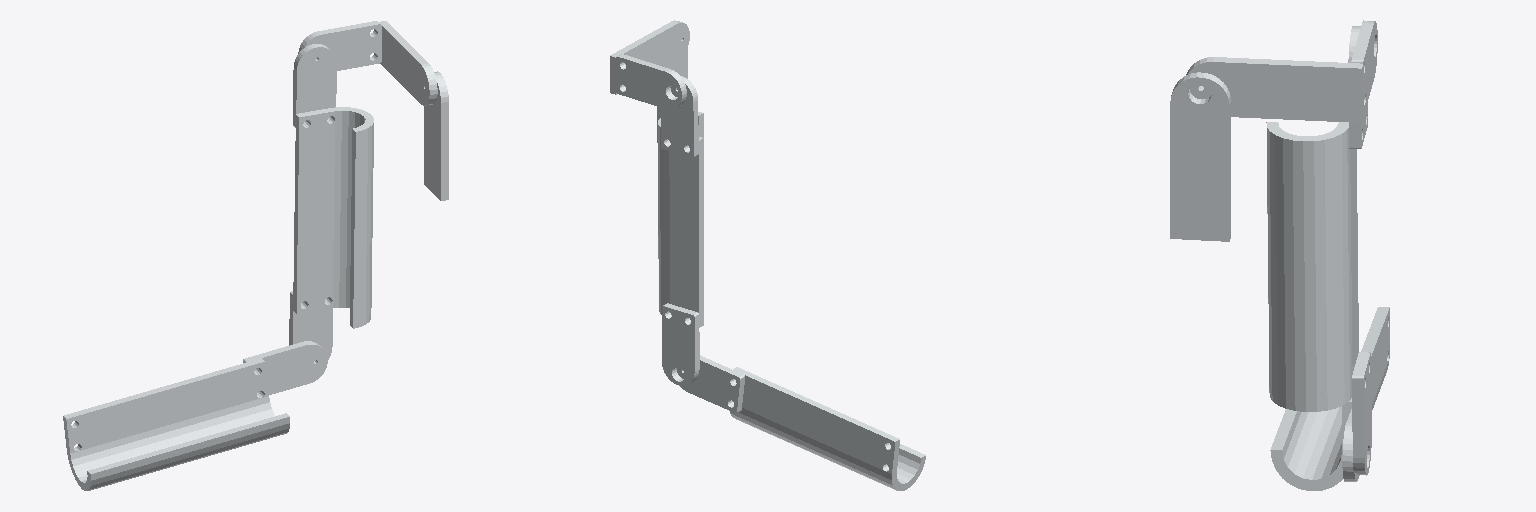
The robot description file, URDF, robot "genos_arm":
<?xml version="1.0" encoding="utf-8" ?>
<!-- This URDF was automatically created by SolidWorks to URDF Exporter! Originally created by [author] ([email redacted]) 
     Commit Version: 1.6.0-1-g15f4949  Build Version: 1.6.7594.29634
     For more information, please see http://wiki.ros.org/sw_urdf_exporter -->
<robot name="genos_arm">
    <link name="world" />
    <link name="base_link">
        
<inertial>
            <origin xyz="-0.0532016838101188 0.0242261098910182 1.14682652147493" rpy="0 0 0" />
            <mass value="0.186774887849971" />
            <inertia ixx="0.000346953127447042" ixy="-4.43999769224878E-06" ixz="5.03079981568357E-22" iyy="0.00031048934002632" iyz="-1.79439831910963E-20" izz="4.06423980219236E-05" />
        </inertial>

        <visual>
            <origin xyz="0 0 0" rpy="0 0 0" />
            <geometry>
                <mesh filename="package://genos_arm/meshes/base_link.STL" />
            </geometry>
            <material name="">
                <color rgba="0.898039215686275 0.917647058823529 0.929411764705882 1" />
            </material>
        </visual>
        <collision>
            <origin xyz="0 0 0" rpy="0 0 0" />
            <geometry>
                <mesh filename="package://genos_arm/meshes/base_link.STL" />
            </geometry>
        </collision>
    </link>
    <link name="link_1_S_aduc">
        
<inertial>
            <origin xyz="0.0627185461030959 0.00105824659029907 -0.0228092393950861" rpy="0 0 0" />
            <mass value="0.194782225878589" />
            <inertia ixx="4.10066260409285E-05" ixy="-5.09706962190601E-06" ixz="4.02340649945793E-20" iyy="0.000343005977675057" iyz="-1.38966342908909E-21" izz="0.000380766233284676" />
        </inertial>

        <visual>
            <origin xyz="0 0 0" rpy="0 0 0" />
            <geometry>
                <mesh filename="package://genos_arm/meshes/link_1_S_aduc.STL" />
            </geometry>
            <material name="">
                <color rgba="0.898039215686275 0.917647058823529 0.929411764705882 1" />
            </material>
        </visual>
        <collision>
            <origin xyz="0 0 0" rpy="0 0 0" />
            <geometry>
                <mesh filename="package://genos_arm/meshes/link_1_S_aduc.STL" />
            </geometry>
        </collision>
    </link>
    <joint name="world_joint" type="fixed">
        <parent link="world" />
        <child link="base_link" />
    </joint>
    <joint name="joint_adcu_1" type="continuous">
        <origin xyz="-0.0404837030222089 0.0226998141926109 1.21224322187183" rpy="1.5707963267949 0.0108613941738253 1.4513567037453" />
        <parent link="base_link" />
        <child link="link_1_S_aduc" />
        <axis xyz="0 0 1" />
    </joint>
    <link name="link_passive_1">
        
<inertial>
            <origin xyz="0.053884189687728 0.0271928860666164 0.00505224239552149" rpy="0 0 0" />
            <mass value="0.114987383770919" />
            <inertia ixx="2.4972951246468E-05" ixy="-7.22270949824152E-19" ixz="-6.09863722023096E-20" iyy="7.97534220207357E-05" iyz="-3.88920249552187E-07" izz="0.00010279679241092" />
        </inertial>

        <visual>
            <origin xyz="0 0 0" rpy="0 0 0" />
            <geometry>
                <mesh filename="package://genos_arm/meshes/link_passive_1.STL" />
            </geometry>
            <material name="">
                <color rgba="0.898039215686275 0.917647058823529 0.929411764705882 1" />
            </material>
        </visual>
        <collision>
            <origin xyz="0 0 0" rpy="0 0 0" />
            <geometry>
                <mesh filename="package://genos_arm/meshes/link_passive_1.STL" />
            </geometry>
        </collision>
    </link>
    <joint name="fixed_passive_1" type="fixed">
        <origin xyz="0.135 -0.0230000000000048 -0.127809239395095" rpy="-2.50253742856838 -1.57079630572147 2.50533291619349" />
        <parent link="link_1_S_aduc" />
        <child link="link_passive_1" />
        <axis xyz="0 0 0" />
    </joint>
    <link name="link_2_S_flex">
        
<inertial>
            <origin xyz="0.0343235035054608 -2.45997000279385E-05 0.00522934542868636" rpy="0 0 0" />
            <mass value="0.122994721799536" />
            <inertia ixx="2.5276587294501E-05" ixy="1.94036347754068E-10" ixz="1.50610770145653E-06" iyy="9.13435806787004E-05" iyz="4.74214522220896E-09" izz="0.000114519432792271" />
        </inertial>

        <visual>
            <origin xyz="0 0 0" rpy="0 0 0" />
            <geometry>
                <mesh filename="package://genos_arm/meshes/link_2_S_flex.STL" />
            </geometry>
            <material name="">
                <color rgba="0.898039215686275 0.917647058823529 0.929411764705882 1" />
            </material>
        </visual>
        <collision>
            <origin xyz="0 0 0" rpy="0 0 0" />
            <geometry>
                <mesh filename="package://genos_arm/meshes/link_2_S_flex.STL" />
            </geometry>
        </collision>
    </link>
    <joint name="joint_2_S_rev" type="continuous">
        <origin xyz="0.0149999999999997 0.025000000000001 0.00920822889014553" rpy="0 0 -1.58291856073267" />
        <parent link="link_passive_1" />
        <child link="link_2_S_flex" />
        <axis xyz="0 0 1" />
    </joint>
    <link name="link_2_S_passive">
        
<inertial>
            <origin xyz="0.0126740440892248 -0.00599117175268329 0.126536768709444" rpy="0 0 0" />
            <mass value="0.931440212187241" />
            <inertia ixx="0.00524234185541984" ixy="-0.000253144623704425" ixz="7.26134534202072E-05" iyy="0.0052612858432027" iyz="-4.26352332733893E-06" izz="0.000939681273900423" />
        </inertial>

        <visual>
            <origin xyz="0 0 0" rpy="0 0 0" />
            <geometry>
                <mesh filename="package://genos_arm/meshes/link_2_S_passive.STL" />
            </geometry>
            <material name="">
                <color rgba="0.898039215686275 0.917647058823529 0.929411764705882 1" />
            </material>
        </visual>
        <collision>
            <origin xyz="0 0 0" rpy="0 0 0" />
            <geometry>
                <mesh filename="package://genos_arm/meshes/link_2_S_passive.STL" />
            </geometry>
        </collision>
    </link>
    <joint name="joint_2_passive" type="fixed">
        <origin xyz="0.31500000000001 0.0200000000000026 0.0457917711098549" rpy="-0.0190271992194839 1.57079631189374 3.12445963243506" />
        <parent link="link_2_S_flex" />
        <child link="link_2_S_passive" />
        <axis xyz="0 0 0" />
    </joint>
    <link name="link_2_S_passive_2">
        
<inertial>
            <origin xyz="0.0559567612941825 0.024974874571406 0.0107035671967797" rpy="0 0 0" />
            <mass value="0.114987383770919" />
            <inertia ixx="2.49950997113638E-05" ixy="-1.74014837375412E-10" ixz="1.31275792470068E-06" iyy="7.97468607547848E-05" iyz="-4.71287284918296E-09" izz="0.000102781205211975" />
        </inertial>

        <visual>
            <origin xyz="0 0 0" rpy="0 0 0" />
            <geometry>
                <mesh filename="package://genos_arm/meshes/link_2_S_passive_2.STL" />
            </geometry>
            <material name="">
                <color rgba="0.898039215686275 0.917647058823529 0.929411764705882 1" />
            </material>
        </visual>
        <collision>
            <origin xyz="0 0 0" rpy="0 0 0" />
            <geometry>
                <mesh filename="package://genos_arm/meshes/link_2_S_passive_2.STL" />
            </geometry>
        </collision>
    </link>
    <joint name="joint_2_S_passive_2" type="fixed">
        <origin xyz="0.0349999999999934 0.0450000000000108 -0.08" rpy="-1.60124963937506 -1.57079630572147 -1.54034371338239" />
        <parent link="link_2_S_passive" />
        <child link="link_2_S_passive_2" />
        <axis xyz="0 0 0" />
    </joint>
    <link name="link_3_e_rev">
        
<inertial>
            <origin xyz="0.0361443917164831 -0.00189872275262637 -0.00142782478082573" rpy="0 0 0" />
            <mass value="0.122994721799536" />
            <inertia ixx="2.5251478983124E-05" ixy="1.73558005222769E-09" ixz="1.64284718566832E-07" iyy="9.13501045853309E-05" iyz="3.89025977200301E-07" izz="0.000114538017197019" />
        </inertial>

        <visual>
            <origin xyz="0 0 0" rpy="0 0 0" />
            <geometry>
                <mesh filename="package://genos_arm/meshes/link_3_e_rev.STL" />
            </geometry>
            <material name="">
                <color rgba="0.898039215686275 0.917647058823529 0.929411764705882 1" />
            </material>
        </visual>
        <collision>
            <origin xyz="0 0 0" rpy="0 0 0" />
            <geometry>
                <mesh filename="package://genos_arm/meshes/link_3_e_rev.STL" />
            </geometry>
        </collision>
    </link>
    <joint name="joint_3_rev" type="continuous">
        <origin xyz="0.015 0.025 0" rpy="-3.14159265358979 0 -1.69219555052437" />
        <parent link="link_2_S_passive_2" />
        <child link="link_3_e_rev" />
        <axis xyz="0 0 1" />
    </joint>
    <link name="link_3_e_passive">
        
<inertial>
            <origin xyz="0.0166610782499463 -0.00461636487324657 0.125152879605984" rpy="0 0 0" />
            <mass value="0.93144021218724" />
            <inertia ixx="0.0052519441776418" ixy="-0.000253334746689582" ixz="7.93247116484849E-06" iyy="0.00525289403762183" iyz="-3.99544603221234E-07" izz="0.000938470757259322" />
        </inertial>

        <visual>
            <origin xyz="0 0 0" rpy="0 0 0" />
            <geometry>
                <mesh filename="package://genos_arm/meshes/link_3_e_passive.STL" />
            </geometry>
            <material name="">
                <color rgba="0.898039215686275 0.917647058823529 0.929411764705882 1" />
            </material>
        </visual>
        <collision>
            <origin xyz="0 0 0" rpy="0 0 0" />
            <geometry>
                <mesh filename="package://genos_arm/meshes/link_3_e_passive.STL" />
            </geometry>
        </collision>
    </link>
    <joint name="joint_3_e_passive" type="fixed">
        <origin xyz="0.315000000000001 0.0199999999999961 0.0449999999999976" rpy="3.14159265358979 1.5707963267949 0" />
        <parent link="link_3_e_rev" />
        <child link="link_3_e_passive" />
        <axis xyz="0 0 0" />
    </joint>
    
<transmission name="trans_joint_adcu_1">
        <type>transmission_interface/SimpleTransmission</type>
        <joint name="joint_adcu_1">
            <hardwareInterface>hardware_interface/PositionJointInterface</hardwareInterface>
        </joint>
        <actuator name="joint_adcu_1_motor">
            <hardwareInterface>hardware_interface/PositionJointInterface</hardwareInterface>
            <mechanicalReduction>1</mechanicalReduction>
        </actuator>
    </transmission>
    <transmission name="trans_joint_2_S_rev">
        <type>transmission_interface/SimpleTransmission</type>
        <joint name="joint_2_S_rev">
            <hardwareInterface>hardware_interface/PositionJointInterface</hardwareInterface>
        </joint>
        <actuator name="joint_2_S_rev_motor">
            <hardwareInterface>hardware_interface/PositionJointInterface</hardwareInterface>
            <mechanicalReduction>1</mechanicalReduction>
        </actuator>
    </transmission>
    <transmission name="trans_joint_3_rev">
        <type>transmission_interface/SimpleTransmission</type>
        <joint name="joint_3_rev">
            <hardwareInterface>hardware_interface/PositionJointInterface</hardwareInterface>
        </joint>
        <actuator name="joint_3_rev_motor">
            <hardwareInterface>hardware_interface/PositionJointInterface</hardwareInterface>
            <mechanicalReduction>1</mechanicalReduction>
        </actuator>
    </transmission>
    <gazebo>
        <plugin name="gazebo_ros_control" filename="libgazebo_ros_control.so">
            <robotNamespace>/</robotNamespace>
        </plugin>
    </gazebo>
</robot>

--- What the picture shows (computed from the rendered views, not written in the file) ---
Views: 3 orthographic renders of the robot side by side, from view 1: azimuth 30°, elevation 25°; view 2: azimuth 150°, elevation 25°; view 3: azimuth 270°, elevation 25°.
Model genos_arm with 9 links and 8 joints (3 continuous, 5 fixed), rooted at world, posed every joint at zero.
Links seen in each view (by area): view 1: link_3_e_passive, link_2_S_passive, link_2_S_flex, base_link, link_3_e_rev, link_1_S_aduc, link_passive_1, link_2_S_passive_2; view 2: link_3_e_passive, link_2_S_passive, link_2_S_passive_2, link_passive_1, link_1_S_aduc, link_2_S_flex, link_3_e_rev; view 3: link_2_S_passive, base_link, link_1_S_aduc, link_3_e_passive, link_2_S_passive_2, link_passive_1, link_2_S_flex, link_3_e_rev.
Boxes of the visible links, x1=… form: link_3_e_passive: x1=63, y1=358, x2=289, y2=490; link_2_S_passive: x1=293, y1=107, x2=373, y2=328; link_2_S_flex: x1=293, y1=44, x2=336, y2=127; base_link: x1=424, y1=71, x2=448, y2=200; link_3_e_rev: x1=243, y1=341, x2=327, y2=394; link_1_S_aduc: x1=379, y1=21, x2=437, y2=105; link_passive_1: x1=298, y1=21, x2=381, y2=70; link_2_S_passive_2: x1=289, y1=291, x2=332, y2=359; link_3_e_passive: x1=730, y1=367, x2=925, y2=490; link_2_S_passive: x1=658, y1=112, x2=703, y2=327; link_2_S_passive_2: x1=662, y1=303, x2=699, y2=385; link_passive_1: x1=616, y1=54, x2=686, y2=109; link_1_S_aduc: x1=610, y1=20, x2=689, y2=94; link_2_S_flex: x1=661, y1=76, x2=698, y2=157; link_3_e_rev: x1=677, y1=355, x2=744, y2=412; link_2_S_passive: x1=1266, y1=122, x2=1358, y2=411; base_link: x1=1170, y1=72, x2=1230, y2=241; link_1_S_aduc: x1=1186, y1=57, x2=1363, y2=122; link_3_e_passive: x1=1270, y1=307, x2=1389, y2=490; link_2_S_passive_2: x1=1352, y1=352, x2=1371, y2=475; link_passive_1: x1=1351, y1=20, x2=1377, y2=112; link_2_S_flex: x1=1348, y1=26, x2=1367, y2=148; link_3_e_rev: x1=1342, y1=409, x2=1359, y2=481.
Size in the robot's own frame: 0.4189 by 0.1831 by 0.4952 metres.
Meshes: 8 distinct files referenced, 8 mesh visuals loaded (8 binary STL).